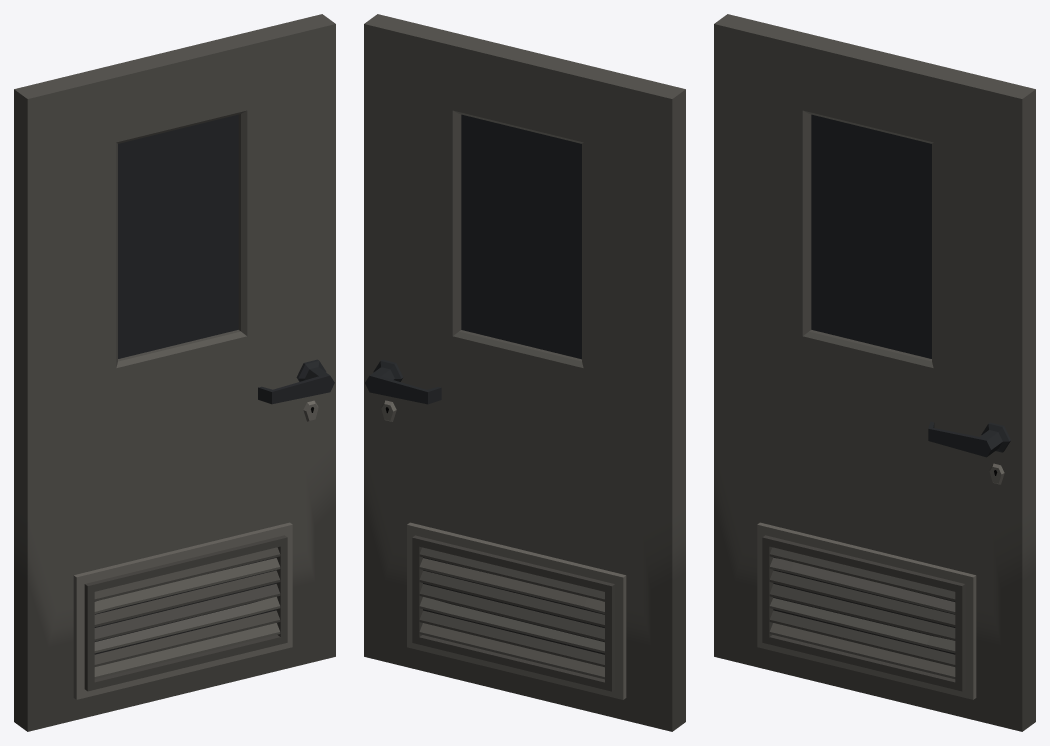
The model's file is SM_Bld_Door_01.fbx.
3 renders of one model, left to right at view 1: azimuth 30°, elevation 25°; view 2: azimuth 150°, elevation 25°; view 3: azimuth 330°, elevation 25°, orthographic.
Visible parts, largest first — view 1: SM_Bld_Door_01; view 2: SM_Bld_Door_01; view 3: SM_Bld_Door_01.
Part boxes in pixels (x1,y1,x2,y2): SM_Bld_Door_01: (14,14,335,731); SM_Bld_Door_01: (364,14,685,731); SM_Bld_Door_01: (714,14,1035,731).
Size of the model in its own units: 100 by 197 by 24.73.
